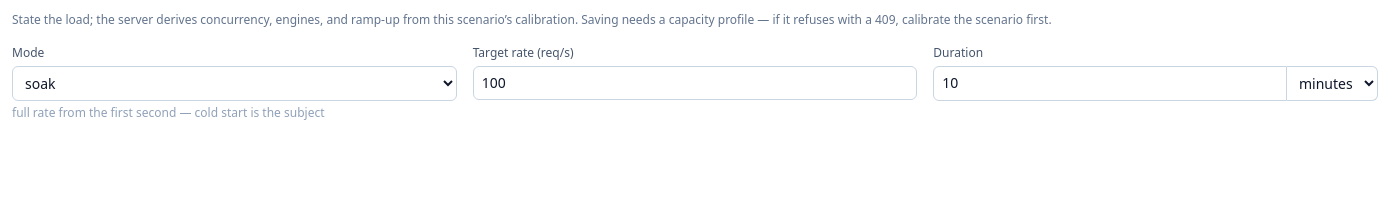
Test: ModeForm (phase 90) › surfaces the soak duration warning softly (role=status, not an error)
This screenshot has width=1390, height=198.
Select "soak" in the dropdown with test id "mode-select": (234, 83) x1=12 y1=66 x2=457 y2=101
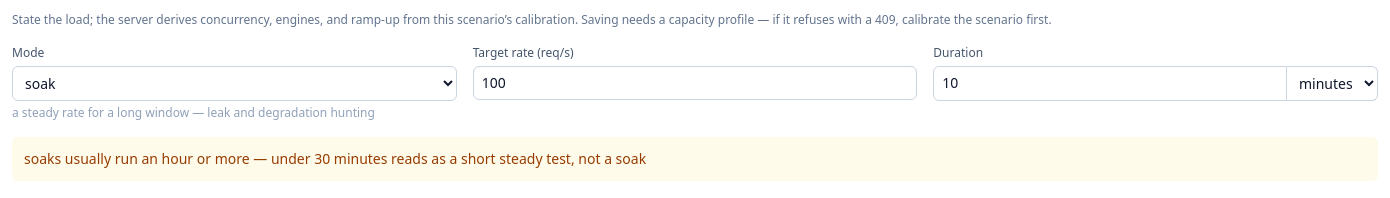
Result: the message with test id "soak-warning" shows "soak" at x1=24 y1=149 x2=646 y2=168
